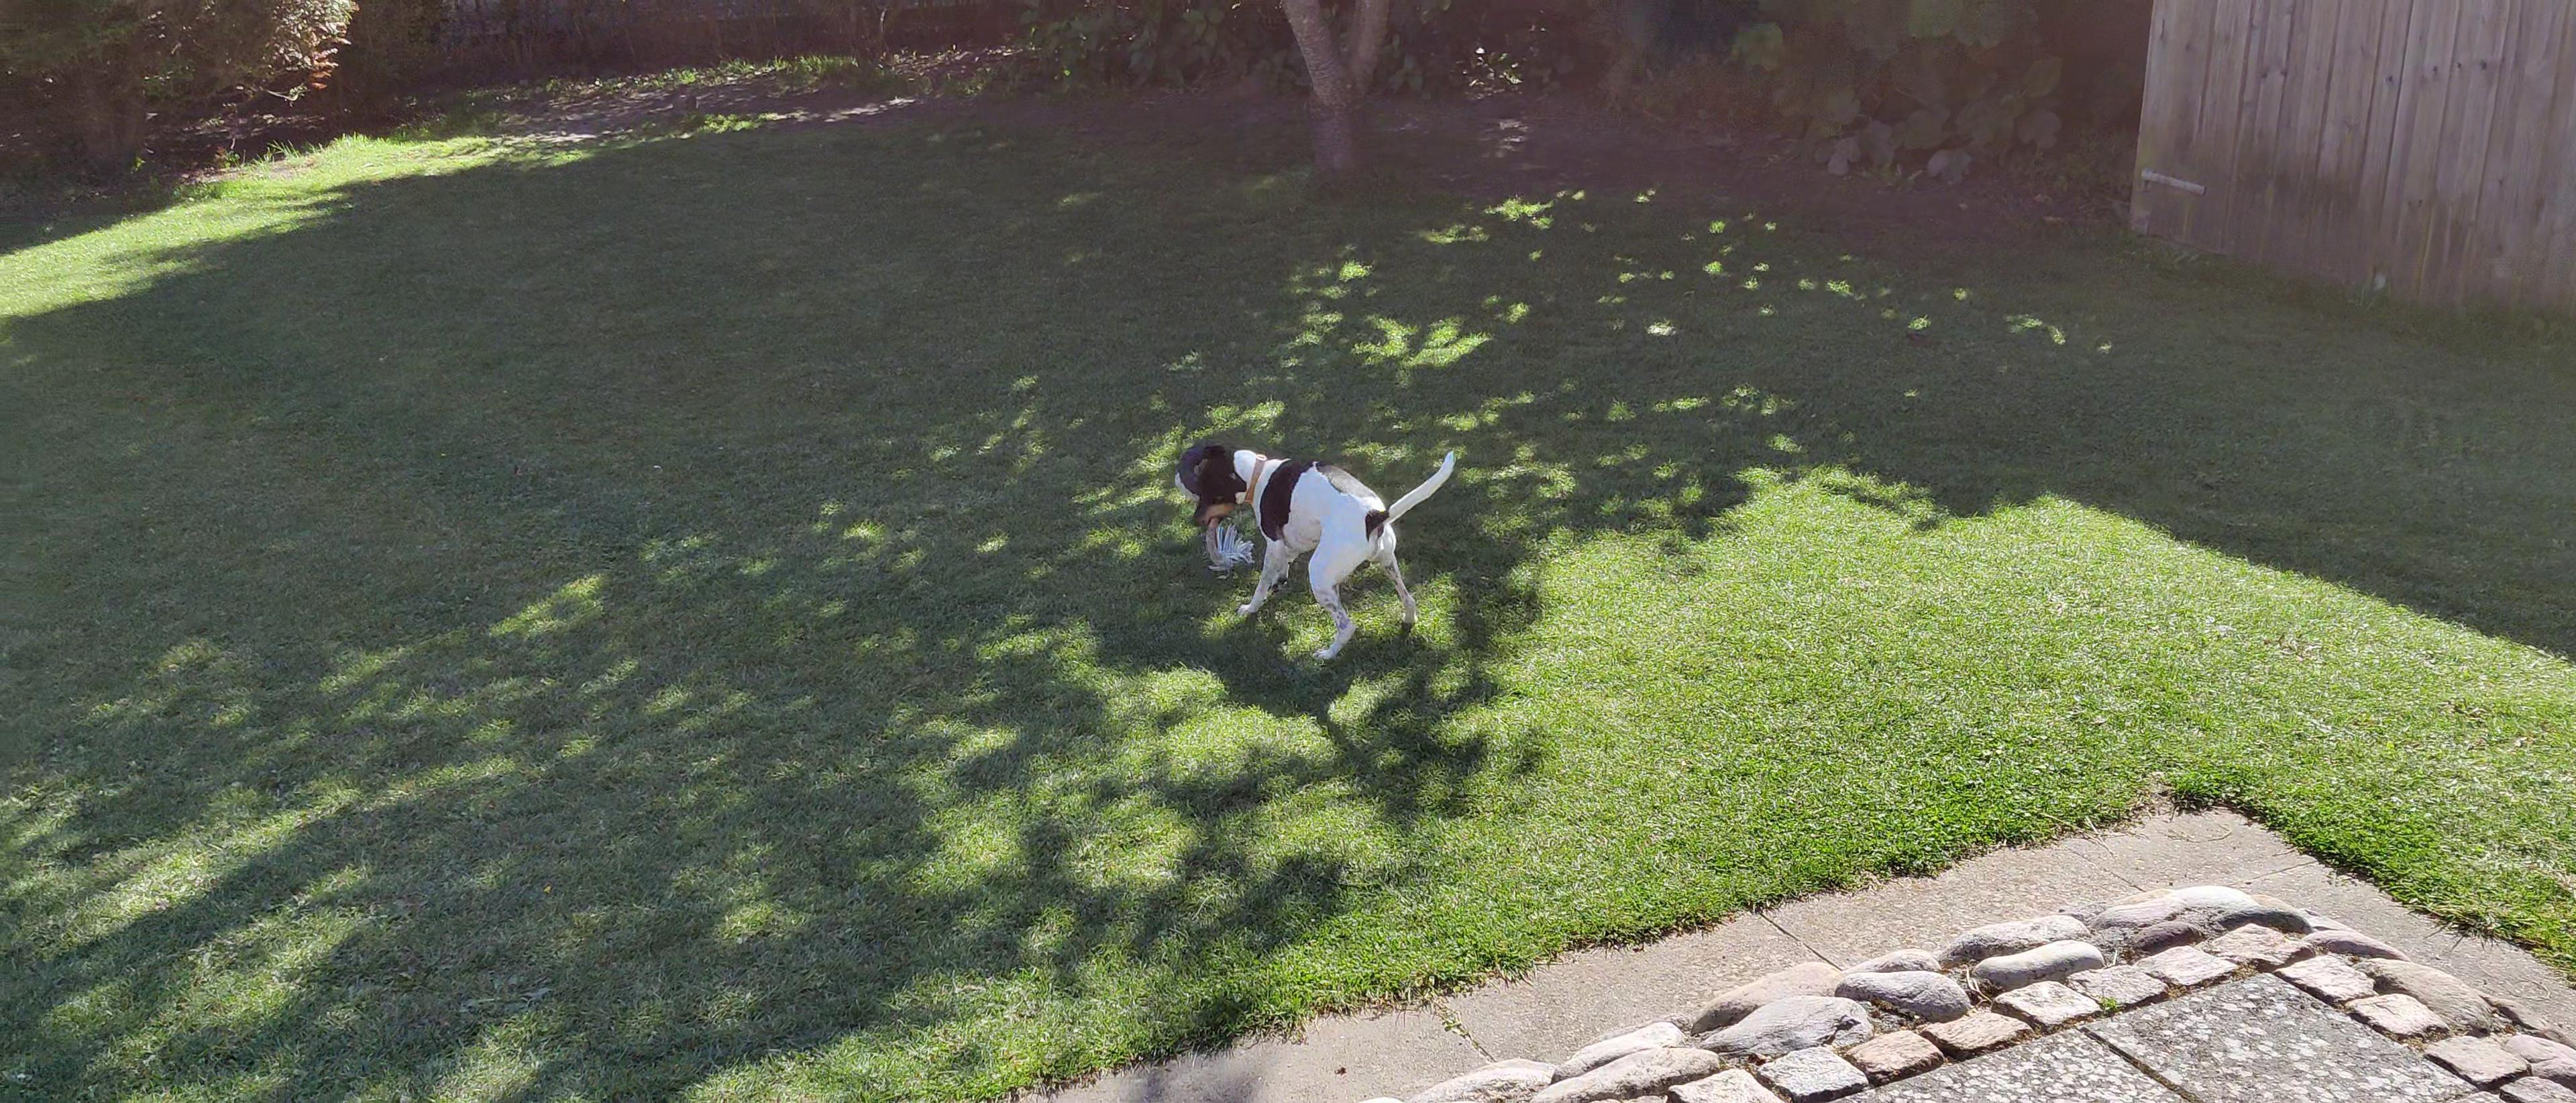Dog: (1180, 427, 1469, 679)
